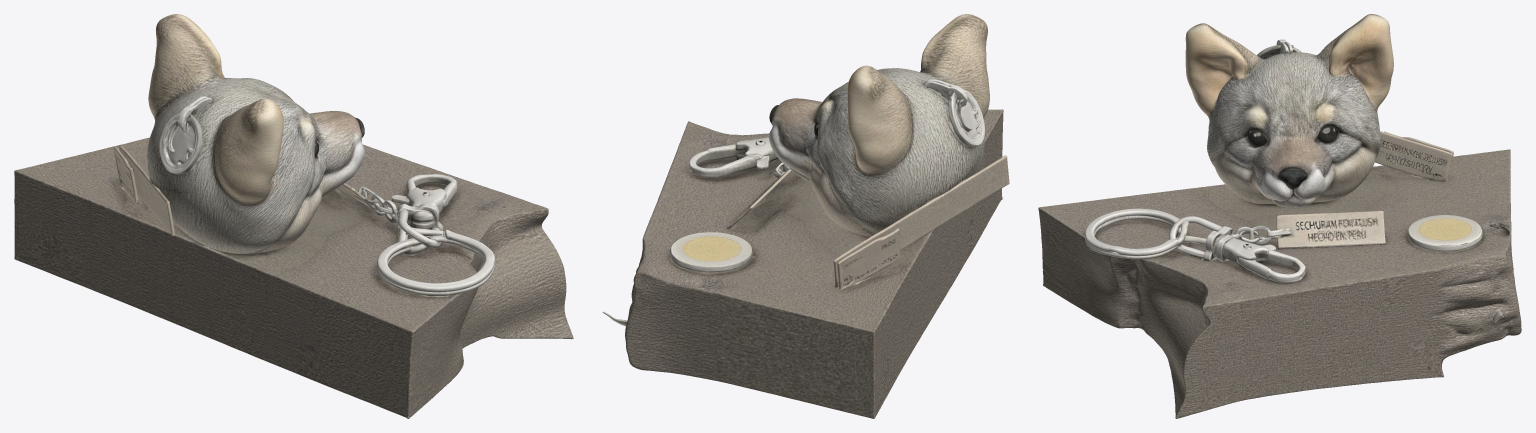
Rendered from llavero_de_cara_de_zorro_costero.glb.
3 views of the same model, side by side, from view 1: azimuth 30°, elevation 25°; view 2: azimuth 150°, elevation 25°; view 3: azimuth 270°, elevation 25° (orthographic). The views are drawn at different scales.
Visible parts, largest first — view 1: tripo_node_63cc3d24-1d60-4de7-8a0a-52f4bbdf83d2; view 2: tripo_node_63cc3d24-1d60-4de7-8a0a-52f4bbdf83d2; view 3: tripo_node_63cc3d24-1d60-4de7-8a0a-52f4bbdf83d2.
Part boxes in pixels (bbox=[...]): tripo_node_63cc3d24-1d60-4de7-8a0a-52f4bbdf83d2: bbox=[14, 14, 573, 418]; tripo_node_63cc3d24-1d60-4de7-8a0a-52f4bbdf83d2: bbox=[602, 14, 1009, 418]; tripo_node_63cc3d24-1d60-4de7-8a0a-52f4bbdf83d2: bbox=[1038, 14, 1521, 418].
Size of the model in its own units: 25935 by 20914 by 32767.
Materials: 1 (1 with a texture image).
